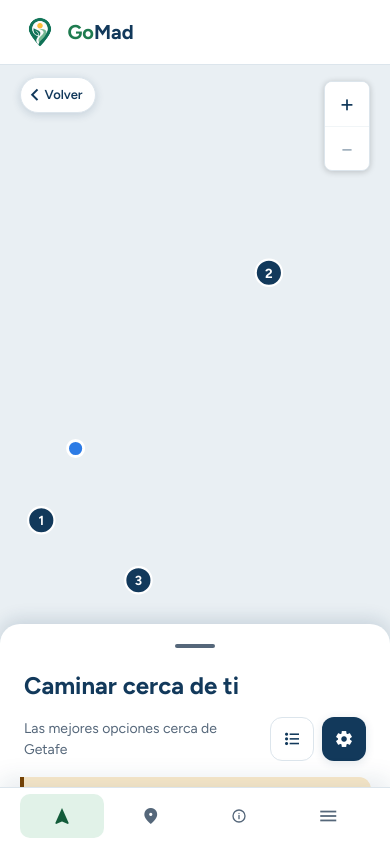
Test: hoja inferior (C2) › pulsar el asa la despliega (el foco en el asa no la alterna)
Click the button named "Mostrar resultados" at (195, 646), box [0, 624, 389, 668]
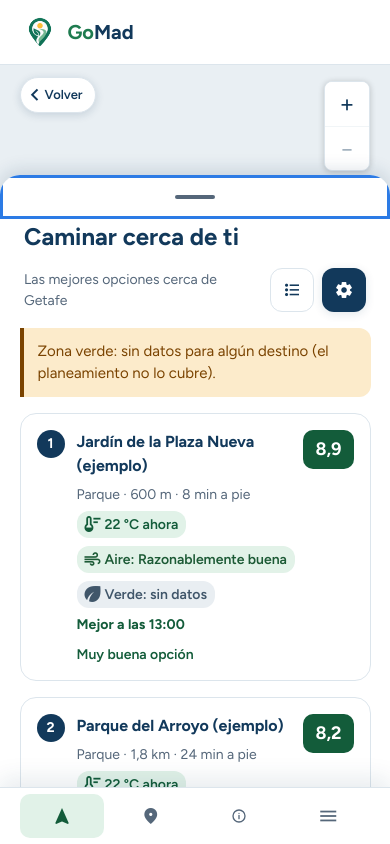
expect the button named "Ocultar resultados" is expanded: met, box [0, 175, 389, 219]
